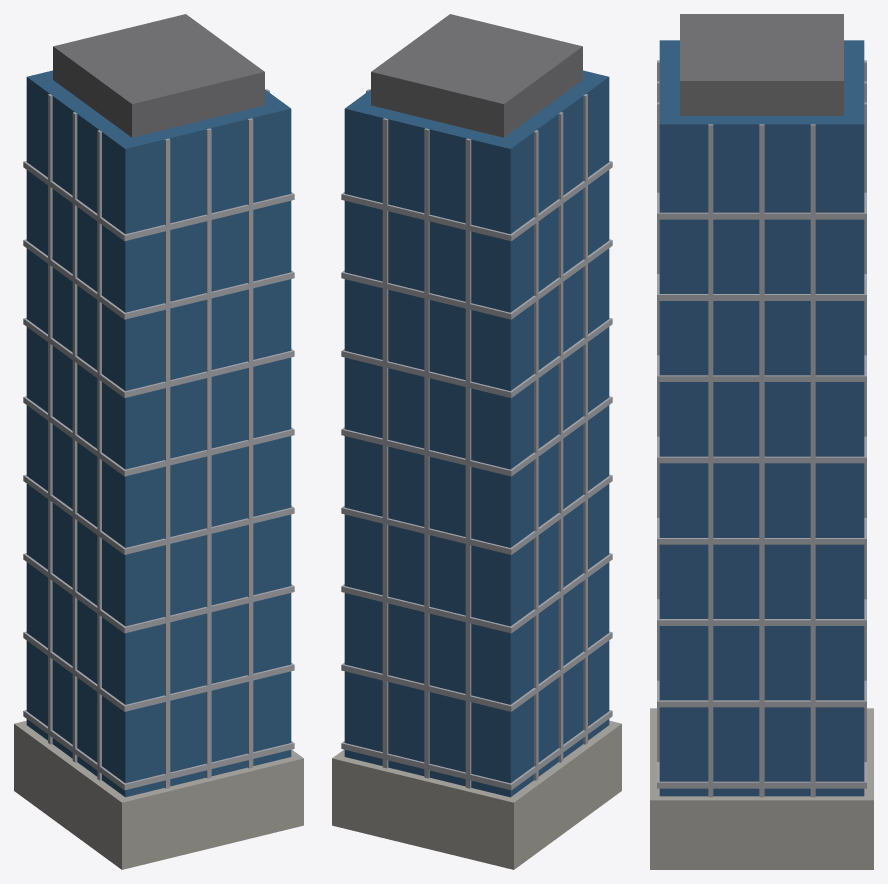
File: tower_0.glb
3 views of the same model, side by side, from view 1: azimuth 30°, elevation 25°; view 2: azimuth 150°, elevation 25°; view 3: azimuth 270°, elevation 25° (orthographic). The views are drawn at different scales.
Visible parts, largest first — view 1: tower_0; view 2: tower_0; view 3: tower_0.
Boxes of the visible parts, left/top/right/bottom form: tower_0: left=14, top=14, right=303, bottom=869; tower_0: left=332, top=14, right=621, bottom=869; tower_0: left=650, top=14, right=873, bottom=869.
Bounding box in the file's own units: 3.4 × 13.37 × 3.49.
